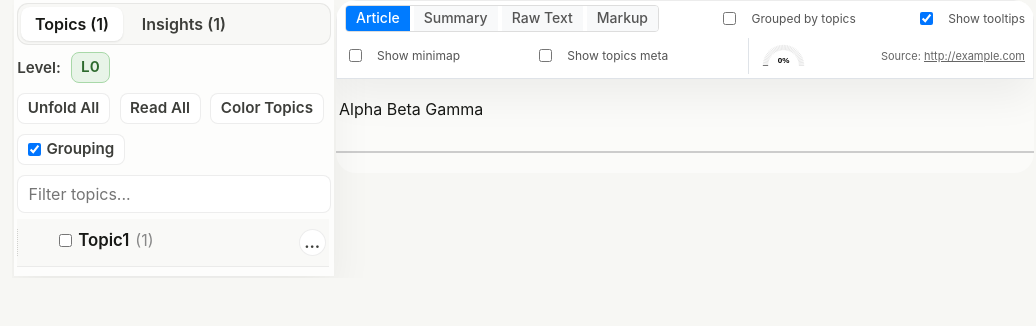
Test: TextPage raw text navigation › renders the article summary tab with summary text and bullets
The image size is (1036, 326).
expect the text "Source:" is shown: met, box [881,49,921,63]
What coordinates should you click on to do the following:
click the button "Summary"
I would click on:
 (456, 18)
Its box is [414,6,498,31].
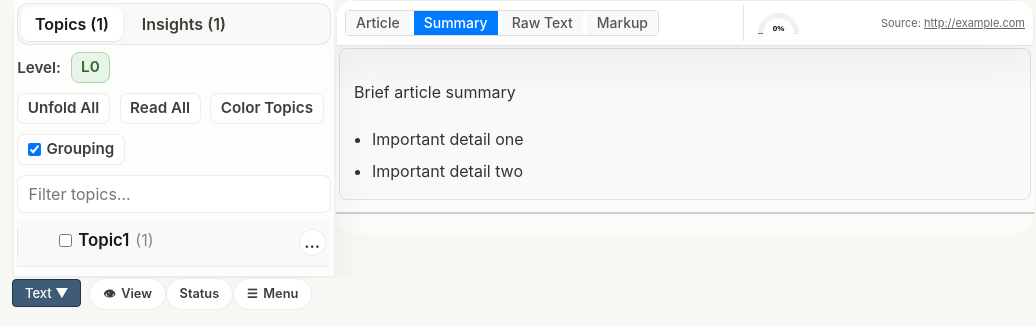
expect the text "Brief article summary" is shown: met, box [354,82,516,102]
expect the list item "Important detail one" is shown: met, box [372,129,524,149]
expect the list item "Important detail two" is shown: met, box [372,161,523,181]
